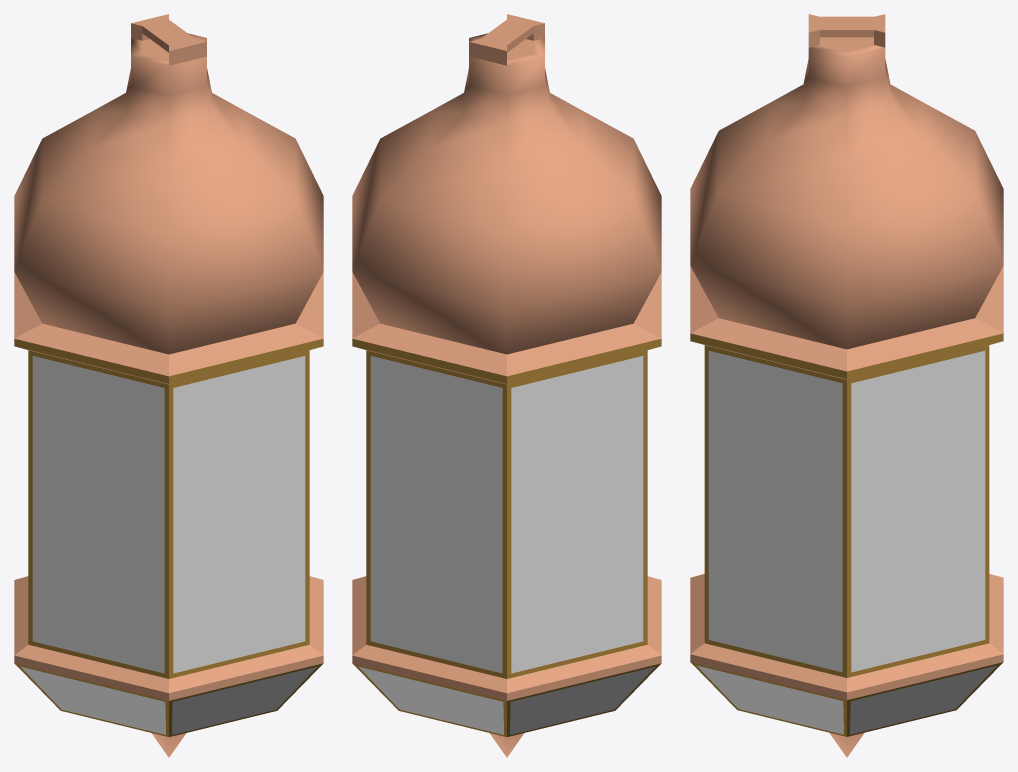
The model's file is Lamp1-v2.fbx.
3 renders of one model, left to right at view 1: azimuth 30°, elevation 25°; view 2: azimuth 150°, elevation 25°; view 3: azimuth 270°, elevation 25°, orthographic.
Parts seen in each view (by area): view 1: HangingLamp-v2; view 2: HangingLamp-v2; view 3: HangingLamp-v2.
Boxes of the visible parts, x1,y1,x2,y2 form: HangingLamp-v2: [14, 14, 323, 757]; HangingLamp-v2: [352, 14, 661, 757]; HangingLamp-v2: [690, 14, 1003, 757].
Bounding box in the file's own units: 44 × 98.55 × 38.11.
